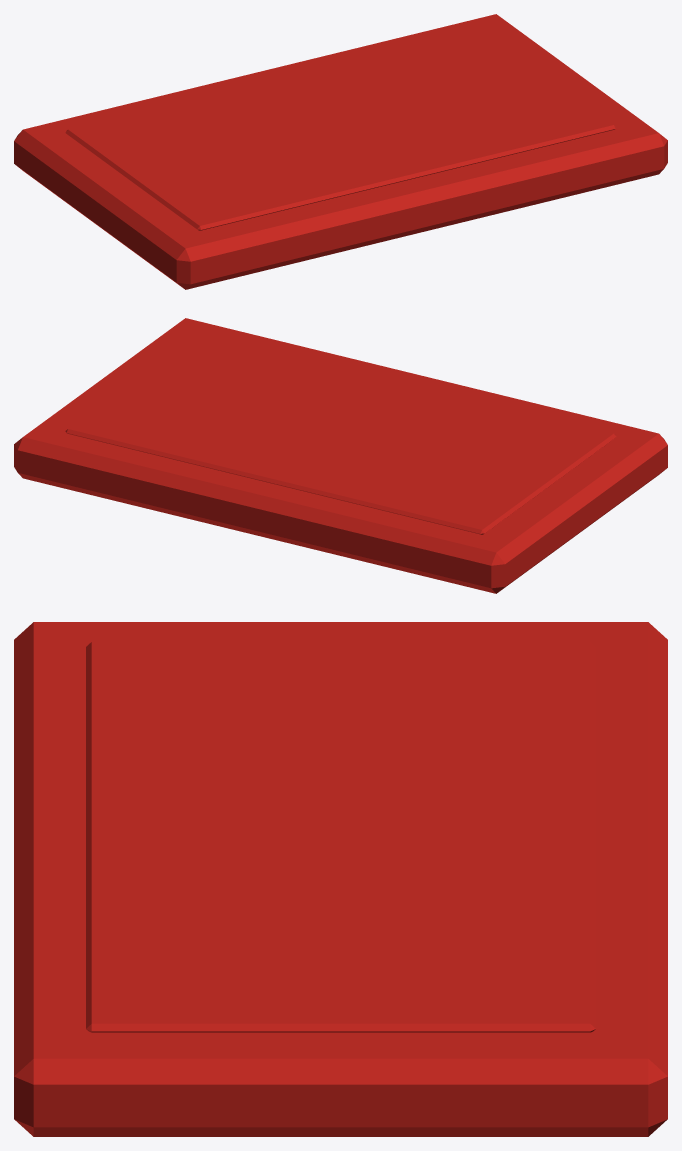
File: cooler_lid.glb
3 views of the same model, one above another, from view 1: azimuth 30°, elevation 25°; view 2: azimuth 150°, elevation 25°; view 3: azimuth 270°, elevation 25° (orthographic). The views are drawn at different scales.
Parts seen in each view (by area): view 1: Cooler_Lid_Game; view 2: Cooler_Lid_Game; view 3: Cooler_Lid_Game.
Boxes of the visible parts, x1=… form: Cooler_Lid_Game: x1=14, y1=14, x2=667, y2=289; Cooler_Lid_Game: x1=14, y1=318, x2=667, y2=593; Cooler_Lid_Game: x1=14, y1=622, x2=667, y2=1136.
Size of the model in its own units: 0.82 by 0.083 by 0.5.
